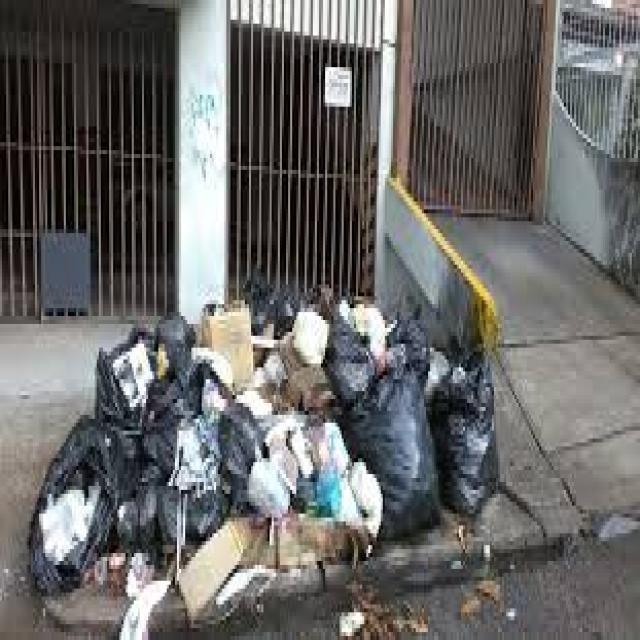garbage: (29, 282, 514, 614)
